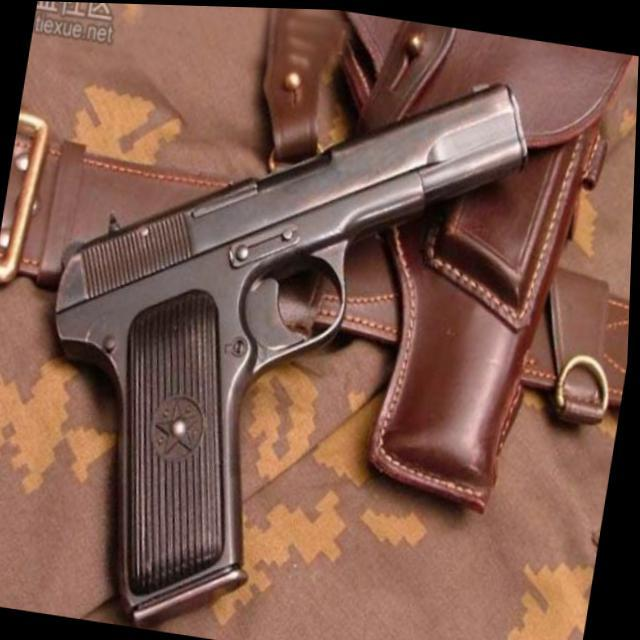weapon: (2, 12, 542, 640)
